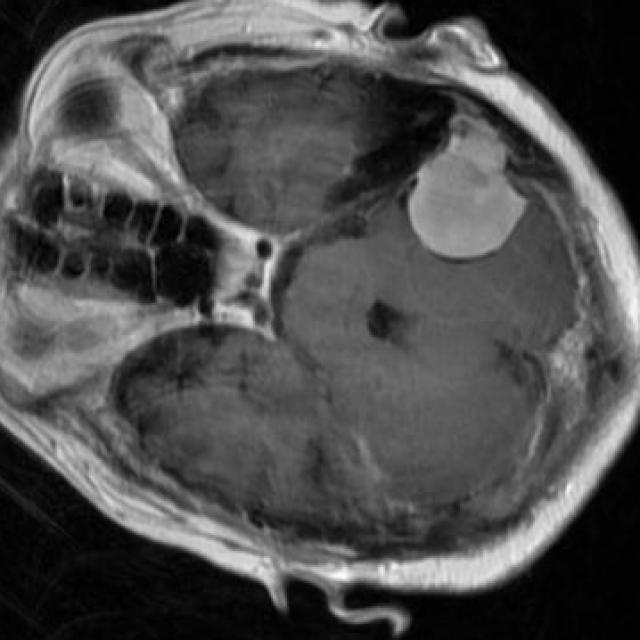meningioma: (406, 114, 528, 262)
